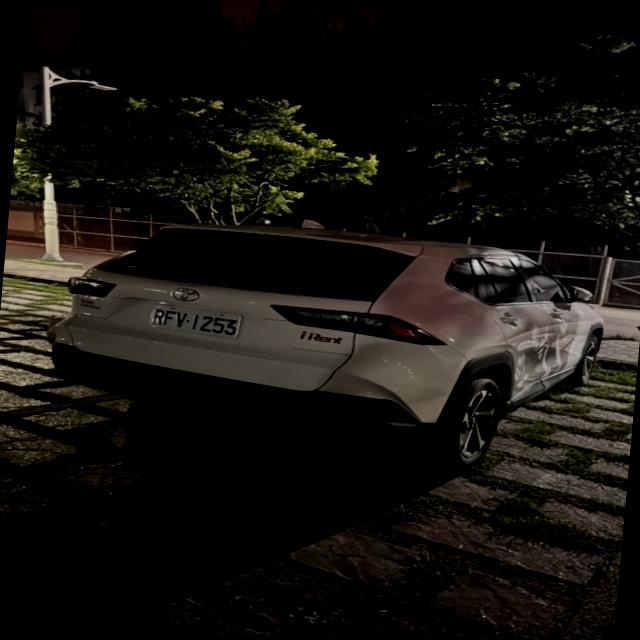license plate: (148, 304, 241, 338)
wheel: (436, 374, 499, 466)
